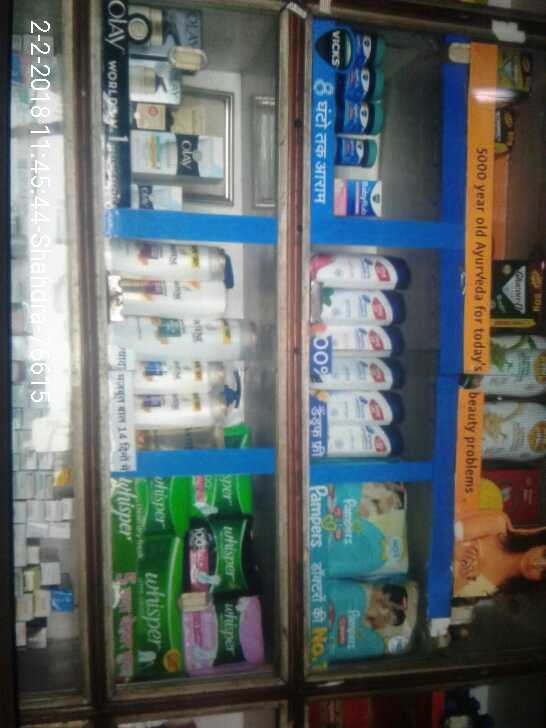vicks: (334, 24, 388, 217)
